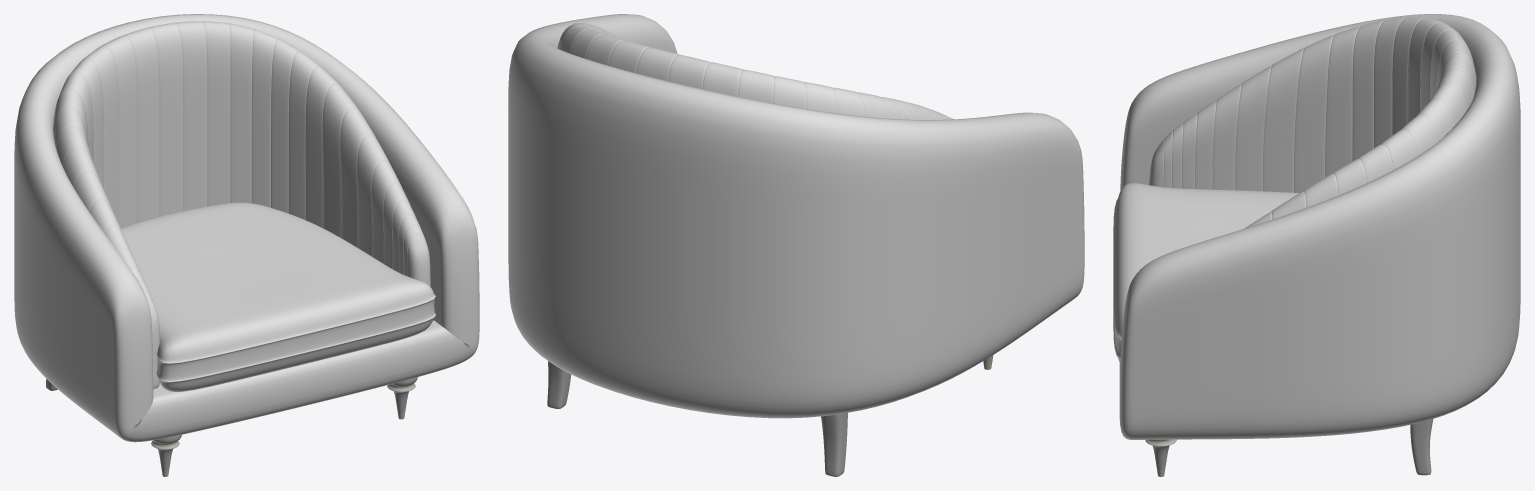
The model's file is sillon02.glb.
3 renders of one model, left to right at view 1: azimuth 30°, elevation 25°; view 2: azimuth 150°, elevation 25°; view 3: azimuth 270°, elevation 25°, orthographic. The views are drawn at different scales.
Parts seen in each view (by area): view 1: sofa-1seat; view 2: sofa-1seat; view 3: sofa-1seat.
Boxes of the visible parts, left/top/right/bottom form: sofa-1seat: left=14, top=14, right=479, bottom=476; sofa-1seat: left=508, top=14, right=1084, bottom=476; sofa-1seat: left=1113, top=14, right=1520, bottom=476.
Size of the model in its own units: 0.8846 by 0.7494 by 0.7716.
Materials: 3 (2 with a texture image).
